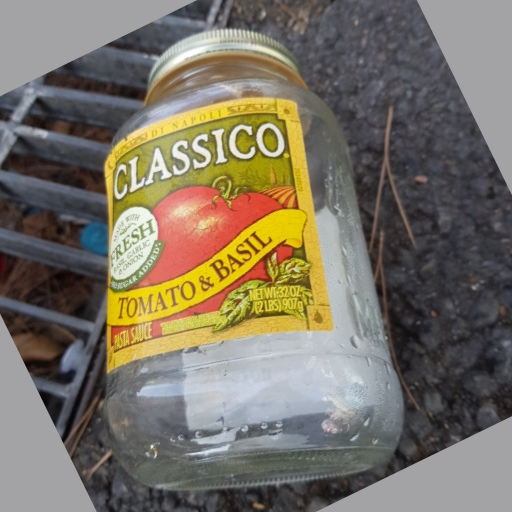Glass_5: (97, 34, 401, 493)
